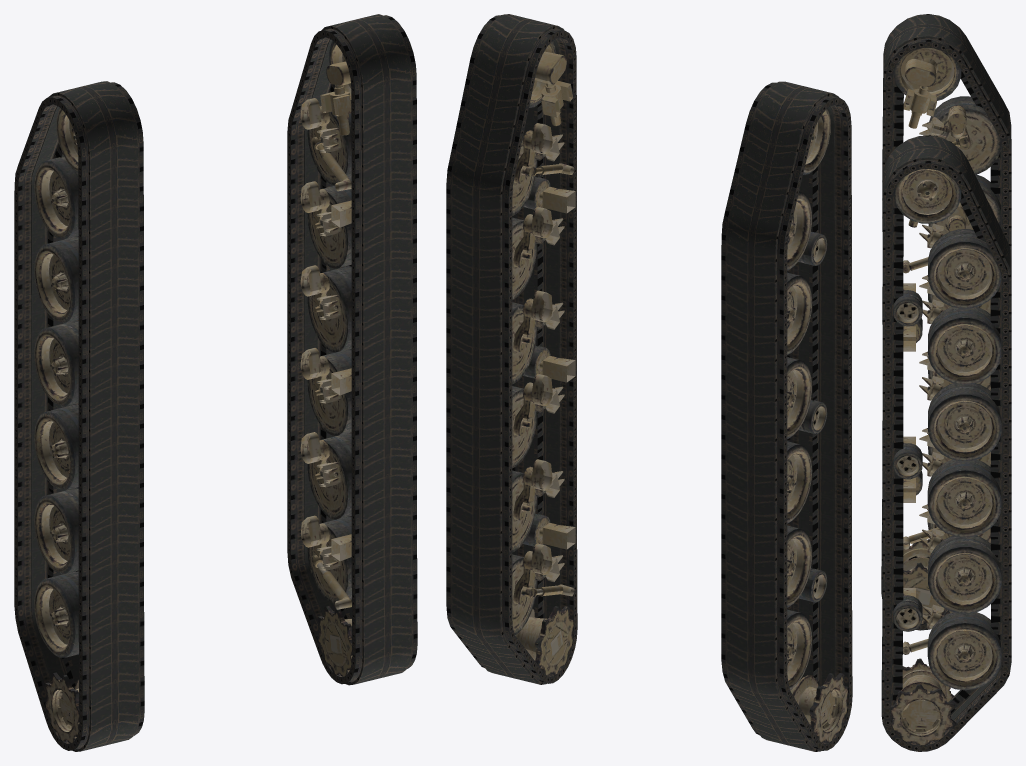
Rendered from Chassis.glb.
3 views of the same model, side by side, from view 1: azimuth 30°, elevation 25°; view 2: azimuth 150°, elevation 25°; view 3: azimuth 270°, elevation 25° (orthographic). The views are drawn at different scales.
Parts seen in each view (by area): view 1: set_0_group_0, set_1_group_0, set_3_group_0, set_2_group_0; view 2: set_0_group_0, set_1_group_0, set_3_group_0, set_2_group_0; view 3: set_3_group_0, set_1_group_0, set_2_group_0, set_0_group_0.
Boxes of the visible parts, box(x1,y1,x2,y2) form: set_0_group_0: box(14, 81, 144, 751); set_1_group_0: box(287, 14, 417, 685); set_3_group_0: box(300, 41, 352, 676); set_2_group_0: box(34, 108, 79, 743); set_0_group_0: box(721, 81, 852, 751); set_1_group_0: box(446, 14, 577, 684); set_3_group_0: box(512, 41, 575, 675); set_2_group_0: box(787, 108, 848, 742); set_3_group_0: box(891, 169, 1001, 745); set_1_group_0: box(881, 135, 1011, 751); set_2_group_0: box(893, 47, 1001, 623); set_0_group_0: box(881, 14, 1011, 630).
Bounding box in the file's own units: 3.44 × 6.38 × 1.27.
4 materials, 4 textured.
